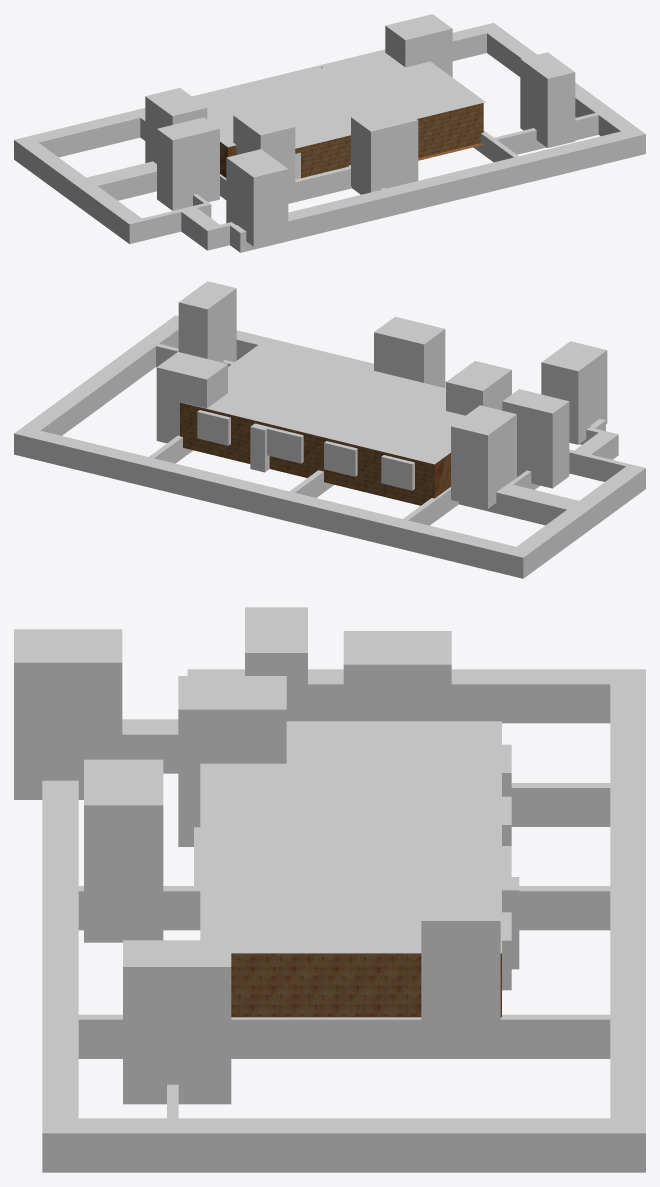
Rendered from квартира4.fbx.
3 renders of one model, top to bottom at view 1: azimuth 30°, elevation 25°; view 2: azimuth 150°, elevation 25°; view 3: azimuth 270°, elevation 25°, orthographic. The views are drawn at different scales.
Visible parts, largest first — view 1: Walls Backup, Ceilling, Cube.003, Cube, Cube.007, Walls, Cube.009, Cube.004, Cube.001, Cube.008; view 2: Walls Backup, Ceilling, Walls, Cube.008, Cube.007, Cube, Cube.004, Cube.009, Cube.003, Cube.001, WindowHole.002, WindowHole.004 (+3 smaller); view 3: Walls Backup, Ceilling, Cube.009, Cube, Cube.004, Cube.003, Walls, Cube.001, Cube.008, Cube.007, WindowHole.003, WindowHole.001.
Boxes of the visible parts, x1=… form: Walls Backup: x1=14, y1=23, x2=645, y2=252; Ceilling: x1=196, y1=52, x2=485, y2=148; Cube.003: x1=351, y1=105, x2=418, y2=194; Cube: x1=226, y1=149, x2=288, y2=246; Cube.007: x1=157, y1=117, x2=219, y2=210; Walls: x1=220, y1=103, x2=483, y2=178; Cube.009: x1=520, y1=52, x2=575, y2=147; Cube.004: x1=385, y1=14, x2=452, y2=77; Cube.001: x1=233, y1=107, x2=295, y2=197; Cube.008: x1=145, y1=88, x2=207, y2=163; Walls Backup: x1=14, y1=315, x2=645, y2=578; Ceilling: x1=180, y1=343, x2=465, y2=464; Walls: x1=180, y1=402, x2=450, y2=505; Cube.008: x1=451, y1=405, x2=516, y2=508; Cube.007: x1=502, y1=389, x2=569, y2=488; Cube: x1=541, y1=341, x2=607, y2=444; Cube.004: x1=156, y1=352, x2=227, y2=443; Cube.009: x1=178, y1=281, x2=236, y2=362; Cube.003: x1=374, y1=316, x2=445, y2=387; Cube.001: x1=446, y1=361, x2=511, y2=415; WindowHole.002: x1=267, y1=427, x2=303, y2=463; WindowHole.004: x1=324, y1=441, x2=357, y2=476; Walls Backup: x1=42, y1=669, x2=645, y2=1172; Ceilling: x1=200, y1=721, x2=501, y2=953; Cube.009: x1=123, y1=940, x2=231, y2=1104; Cube: x1=14, y1=629, x2=122, y2=799; Cube.004: x1=421, y1=875, x2=500, y2=1058; Cube.003: x1=84, y1=759, x2=163, y2=942; Walls: x1=231, y1=953, x2=501, y2=1017; Cube.001: x1=178, y1=676, x2=286, y2=846; Cube.008: x1=343, y1=631, x2=451, y2=721; Cube.007: x1=245, y1=607, x2=307, y2=721; WindowHole.003: x1=502, y1=877, x2=519, y2=969; WindowHole.001: x1=502, y1=912, x2=511, y2=990.
Size of the model in its own units: 5073 by 800 by 2919.
